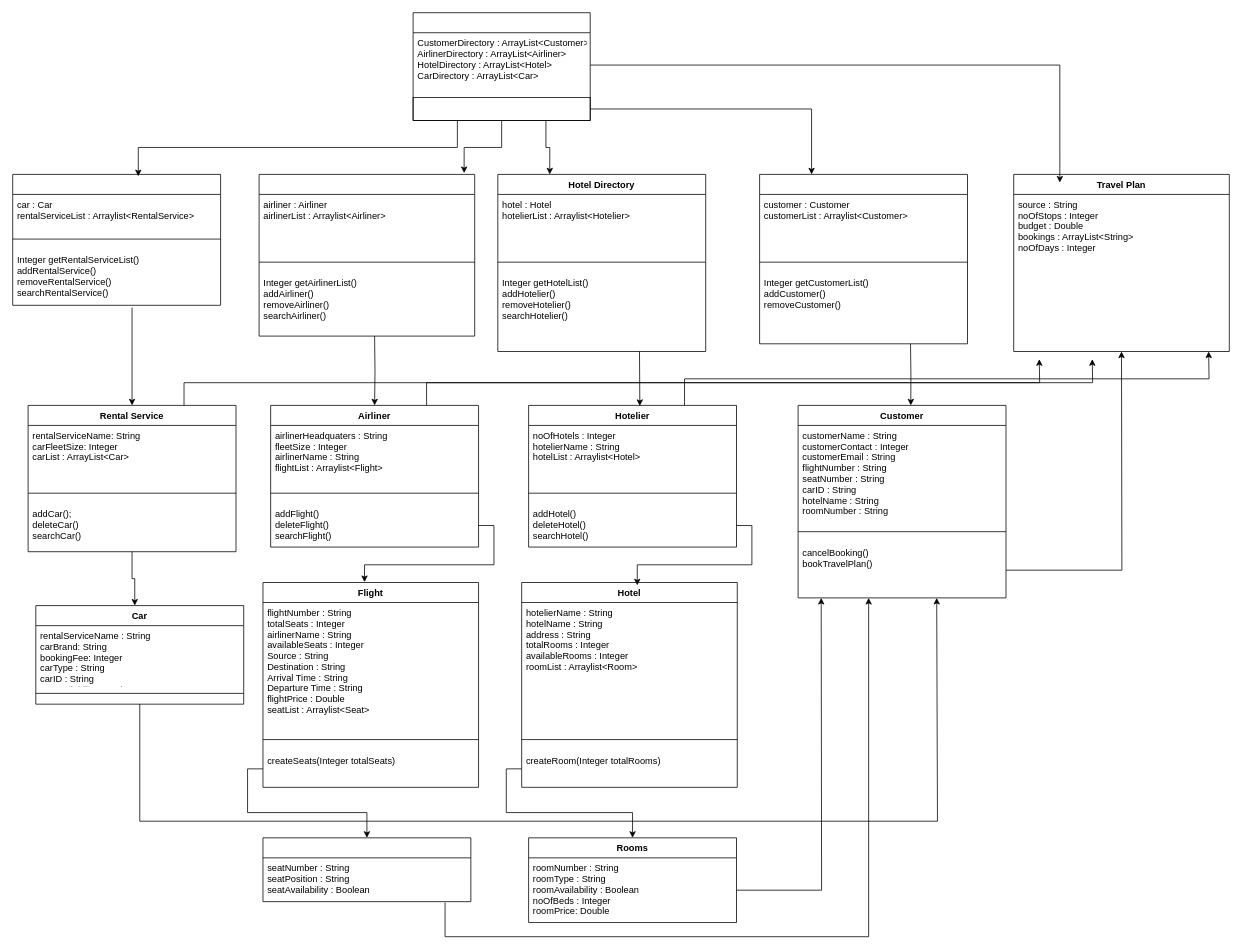
Some shapes in this 1242 by 949 pixel diagram are drawn without their labels. The shapes that lost their labels are listed below. From the top down, each one's box as (x1, y1, x2, y2) in pixels, then its label:
(412, 12, 590, 121): Travel Agency
(12, 174, 221, 305): Car Directory
(258, 174, 475, 336): Airliner Directory
(759, 174, 968, 344): Customer Directory
(262, 837, 471, 902): Seats
